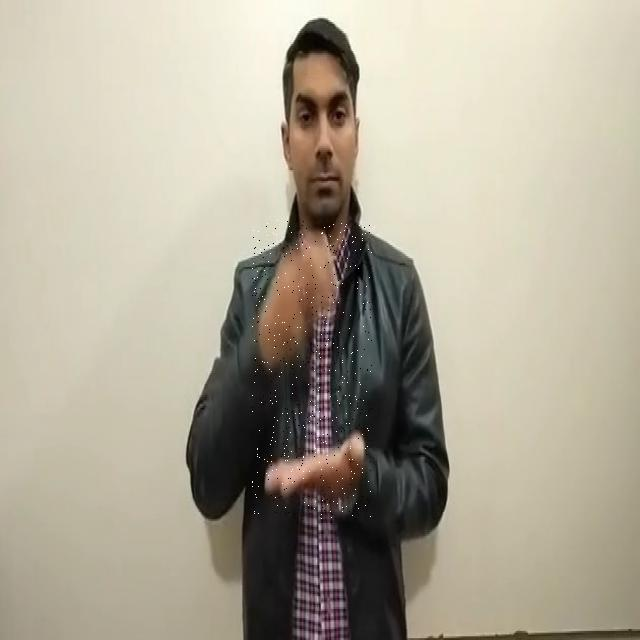cup: (252, 220, 373, 520)
